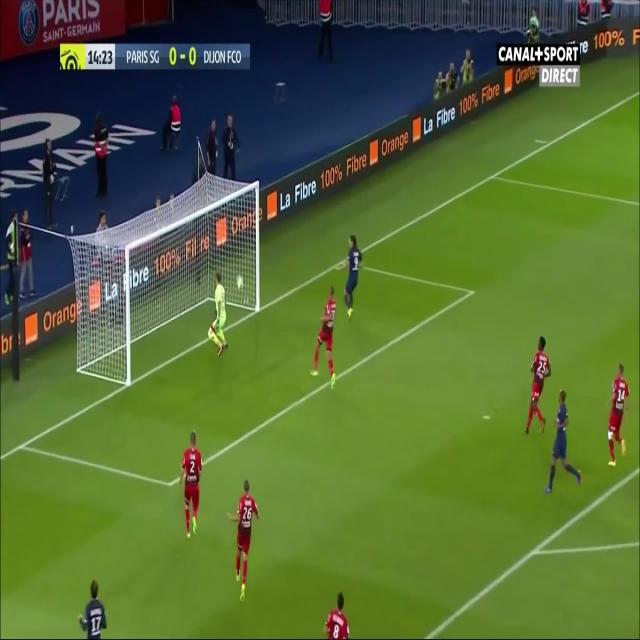Ball: (234, 272, 244, 292)
Goalkeeper: (208, 270, 230, 362)
Player: (544, 386, 586, 499), (227, 480, 263, 604), (309, 282, 339, 391), (603, 361, 631, 473), (523, 333, 552, 438), (178, 430, 205, 542), (342, 233, 366, 318), (321, 586, 354, 639), (79, 578, 107, 640)
